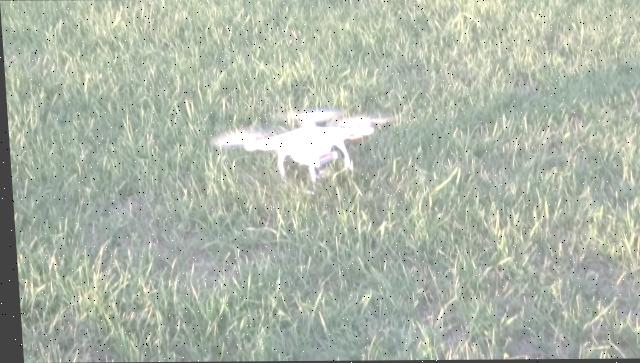drone: (211, 107, 394, 184)
